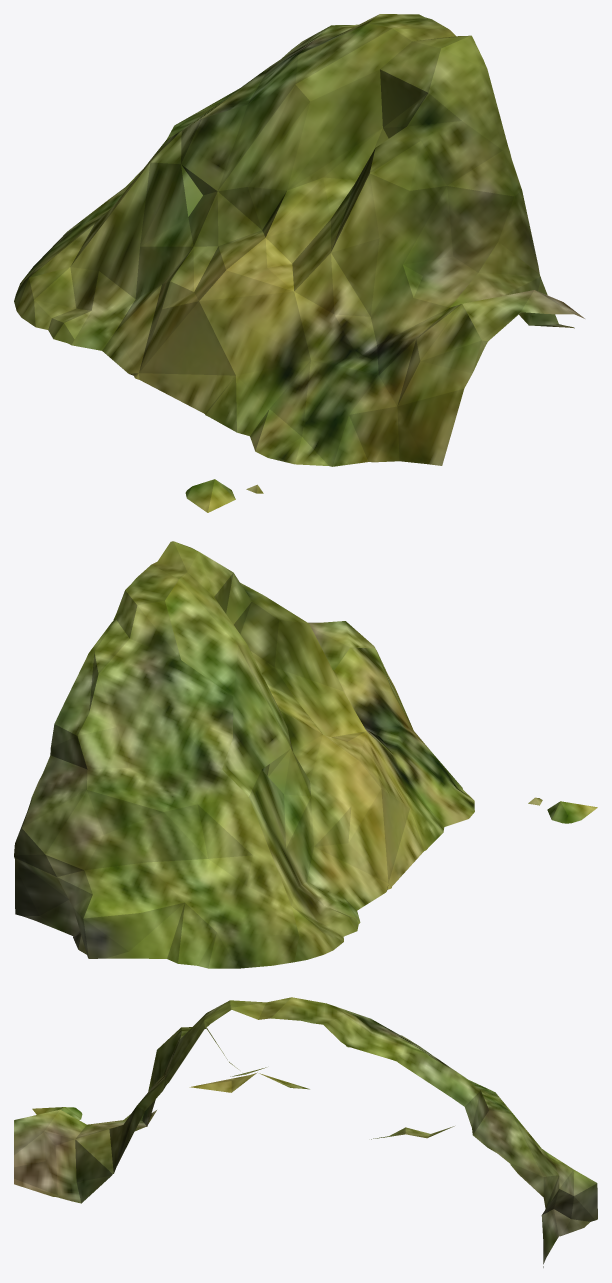
3 views of the same model, one above another, from view 1: azimuth 30°, elevation 25°; view 2: azimuth 150°, elevation 25°; view 3: azimuth 270°, elevation 25° (orthographic). The views are drawn at different scales.
Bounding box in the file's own units: 1.26 × 0.954 × 1.94.
Materials: 1 (1 with a texture image).
